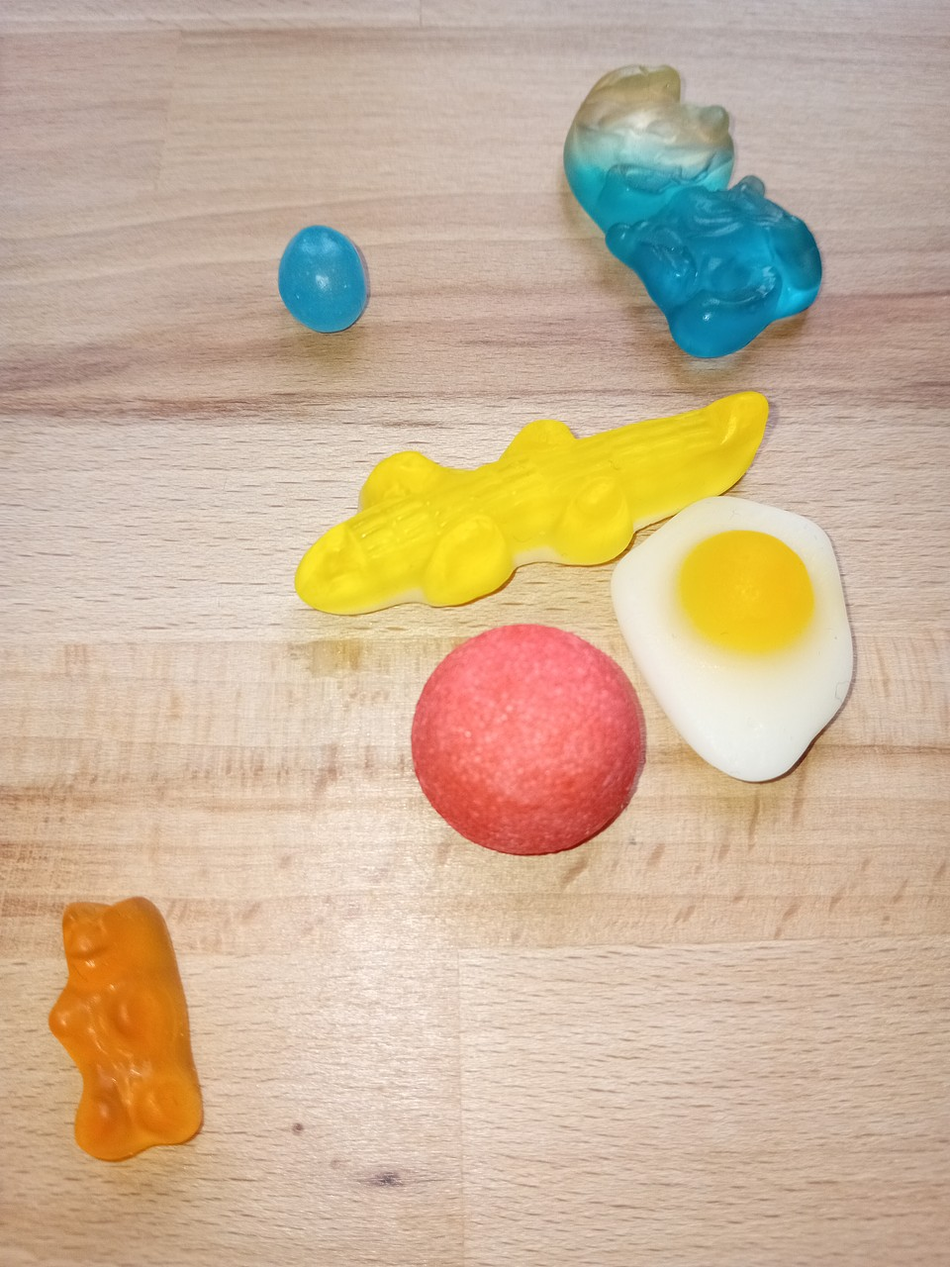crocodile_jaune: (284, 387, 774, 621)
dragibus_bleu: (270, 218, 378, 340)
oeuf_oeuf: (610, 491, 858, 792)
ourson_orangeClair: (43, 889, 211, 1173)
schtroumpf_bleu-blanc: (558, 50, 829, 369)
tagada_fraise: (407, 626, 651, 866)
